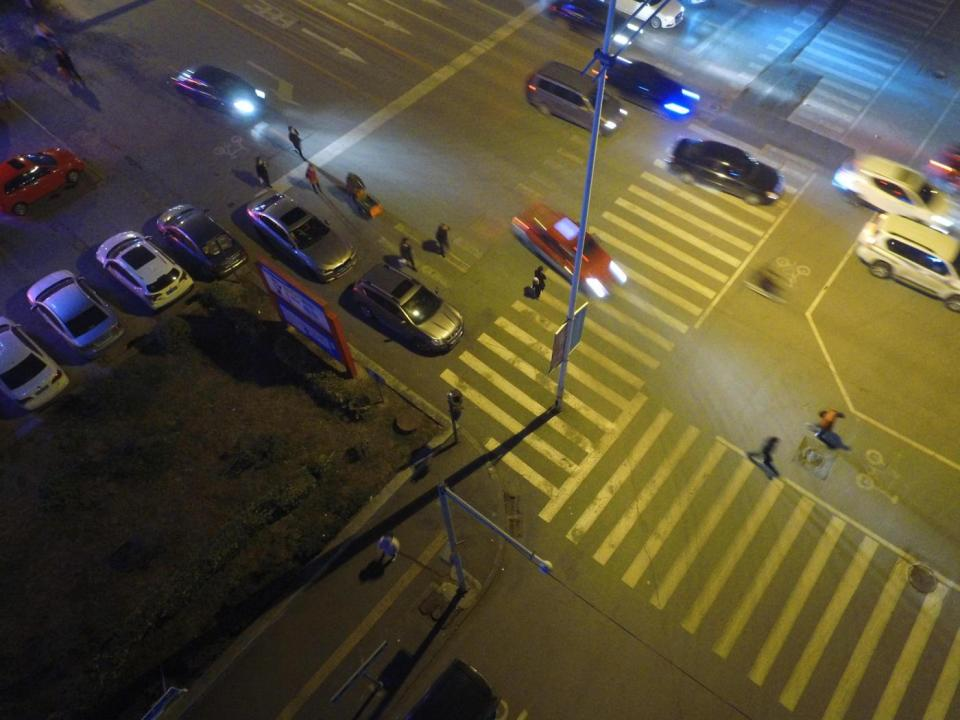car: (514, 204, 627, 303), (242, 191, 355, 285), (854, 213, 958, 314), (351, 263, 466, 353), (835, 154, 956, 232), (92, 230, 194, 314), (26, 270, 123, 358), (666, 140, 784, 207), (158, 203, 248, 281), (0, 316, 69, 412), (0, 148, 83, 215), (172, 66, 268, 123), (605, 62, 699, 120), (550, 1, 628, 38), (611, 0, 683, 27)
van: (523, 64, 626, 136)
